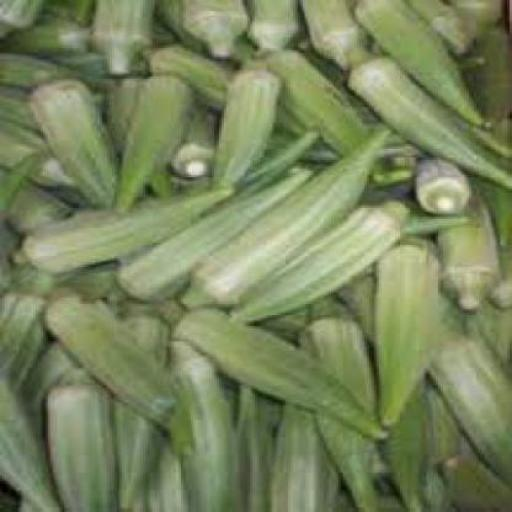biodegradable: (174, 124, 386, 309), (162, 304, 383, 433), (108, 166, 310, 302), (8, 164, 262, 272), (113, 166, 307, 300), (343, 41, 510, 190), (41, 290, 193, 450), (224, 197, 405, 321), (250, 46, 407, 184), (352, 0, 479, 126), (300, 300, 374, 510), (424, 321, 510, 481), (428, 315, 510, 478), (162, 337, 236, 510), (372, 234, 438, 422), (26, 66, 112, 204), (112, 70, 193, 212), (114, 309, 169, 509), (45, 363, 117, 510), (100, 75, 176, 195), (208, 52, 276, 182), (0, 363, 58, 511), (434, 195, 498, 311), (271, 402, 338, 510), (376, 381, 429, 510), (0, 273, 55, 396), (130, 38, 224, 105), (264, 122, 410, 160), (228, 385, 269, 510), (295, 0, 367, 68), (0, 118, 69, 186), (88, 0, 152, 73), (440, 446, 510, 510), (433, 453, 510, 509), (250, 127, 319, 186), (4, 10, 88, 58), (178, 0, 248, 57), (402, 0, 472, 57), (0, 176, 71, 232), (167, 98, 217, 173), (412, 155, 472, 214), (483, 184, 510, 311), (462, 300, 510, 367), (0, 151, 43, 221), (240, 0, 300, 47), (457, 114, 510, 162), (0, 49, 63, 86), (37, 0, 96, 27), (402, 212, 464, 236), (0, 92, 36, 130), (0, 0, 37, 36), (455, 0, 498, 28), (16, 494, 38, 510)
